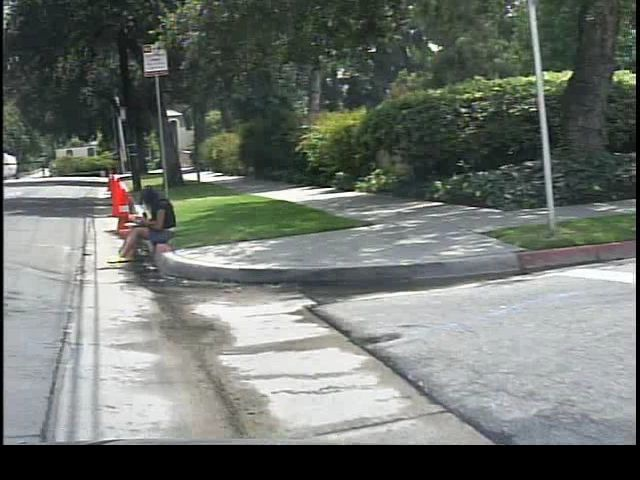person: (104, 183, 182, 268)
